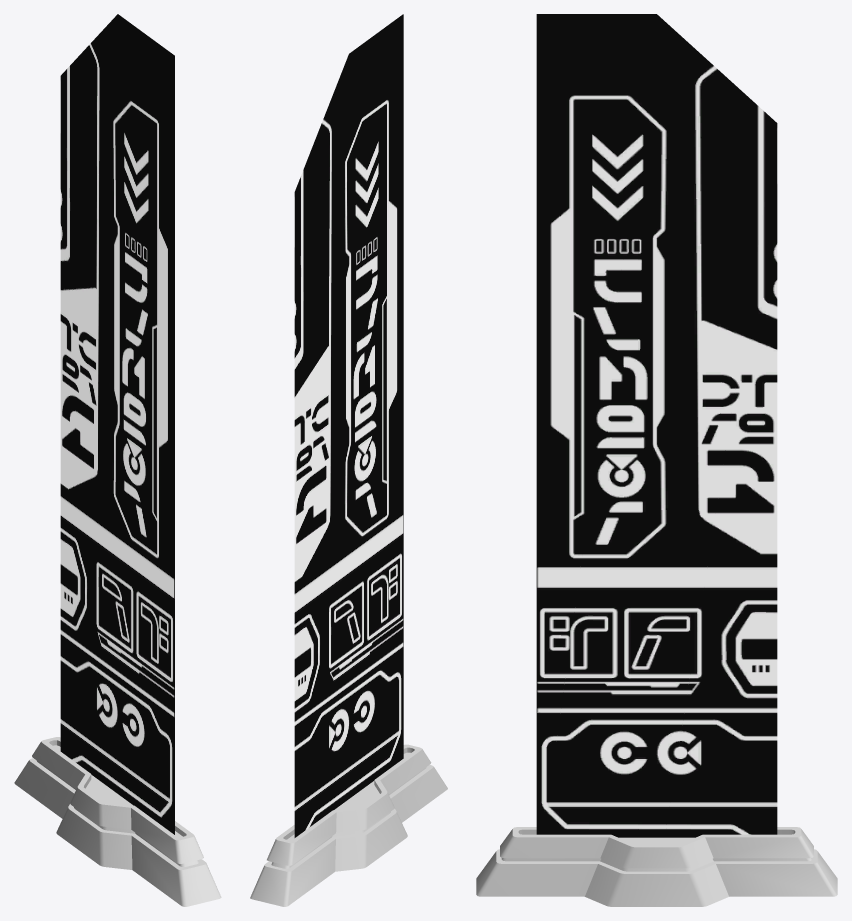
File: propRoadsidePosterSmall.glb
3 views of the same model, side by side, from view 1: azimuth 30°, elevation 25°; view 2: azimuth 150°, elevation 25°; view 3: azimuth 270°, elevation 25° (orthographic). The views are drawn at different scales.
Visible parts, largest first — view 1: propRoadsidePosterSmall, SM_PosterBoard_M_PosterBoard.001_0; view 2: propRoadsidePosterSmall, SM_PosterBoard_M_PosterBoard.001_0; view 3: propRoadsidePosterSmall, SM_PosterBoard_M_PosterBoard.001_0.
Part boxes in pixels (<box>): propRoadsidePosterSmall: <box>60,14,174,834</box>; SM_PosterBoard_M_PosterBoard.001_0: <box>14,737,221,906</box>; propRoadsidePosterSmall: <box>294,14,403,837</box>; SM_PosterBoard_M_PosterBoard.001_0: <box>250,744,447,906</box>; propRoadsidePosterSmall: <box>536,14,777,837</box>; SM_PosterBoard_M_PosterBoard.001_0: <box>476,827,837,906</box>.
Size of the model in its own units: 0.8 by 8 by 3.
2 materials, 1 textured.
